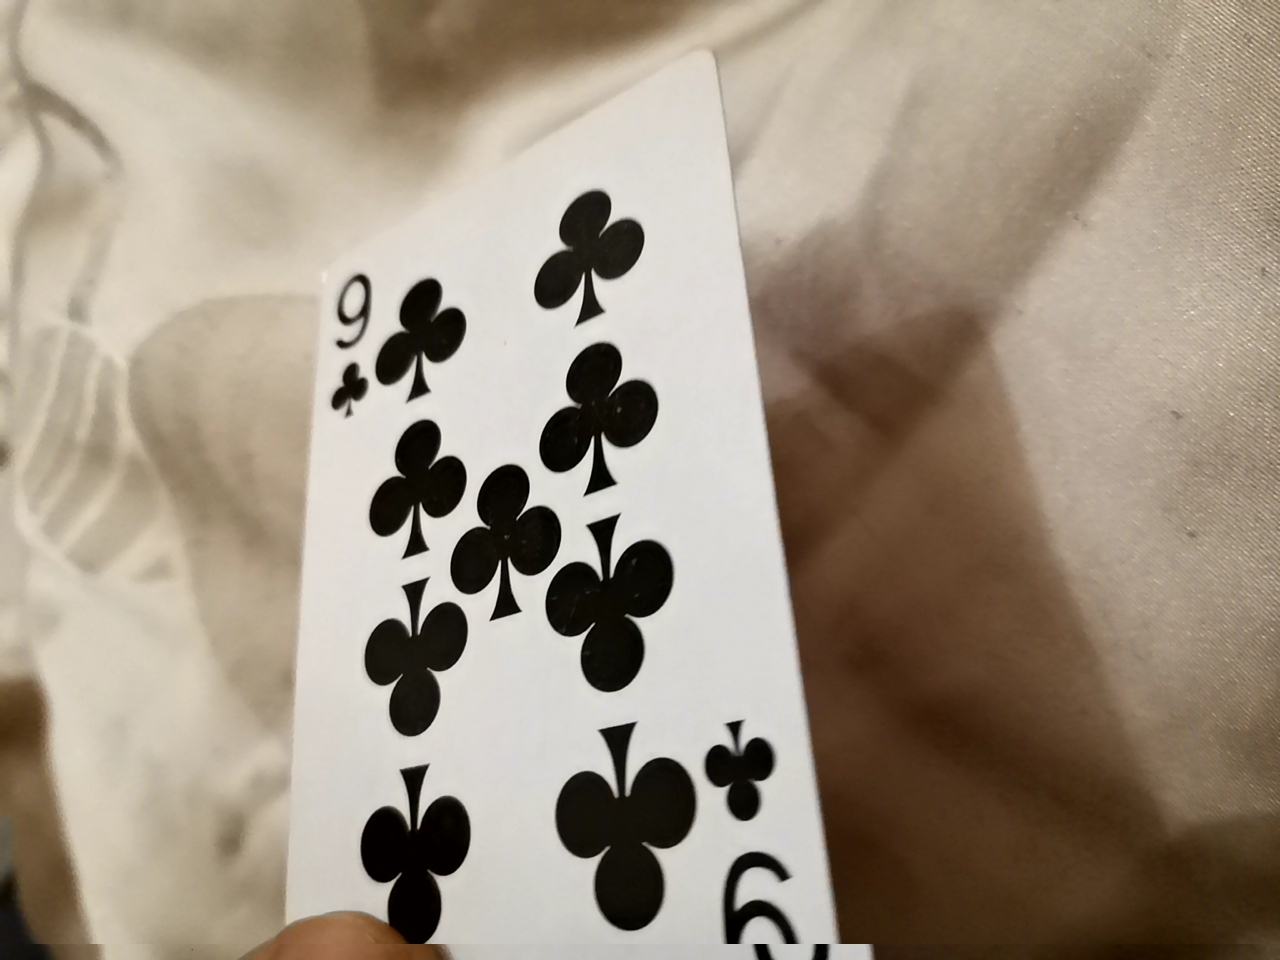mh 9: (278, 52, 846, 951)
